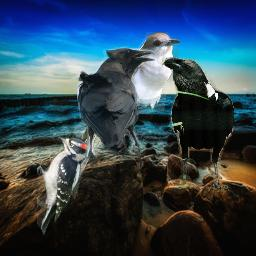Crow: (160, 57, 234, 192), (77, 44, 156, 170)
Cuckoo: (53, 32, 180, 206)
Woodpecker: (37, 134, 89, 235)
